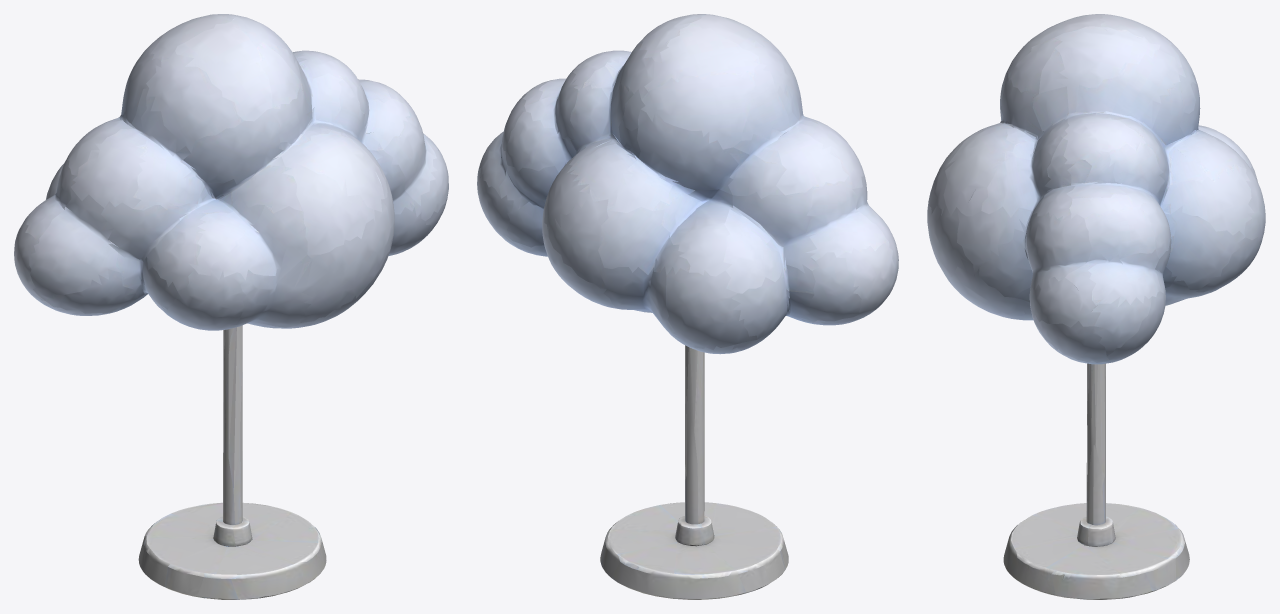
The picture shows the model from 3 angles, left to right: view 1: azimuth 30°, elevation 25°; view 2: azimuth 150°, elevation 25°; view 3: azimuth 270°, elevation 25°; orthographic projection.
Size of the model in its own units: 1.52 by 1.9 by 1.09.
1 material, 1 textured.
